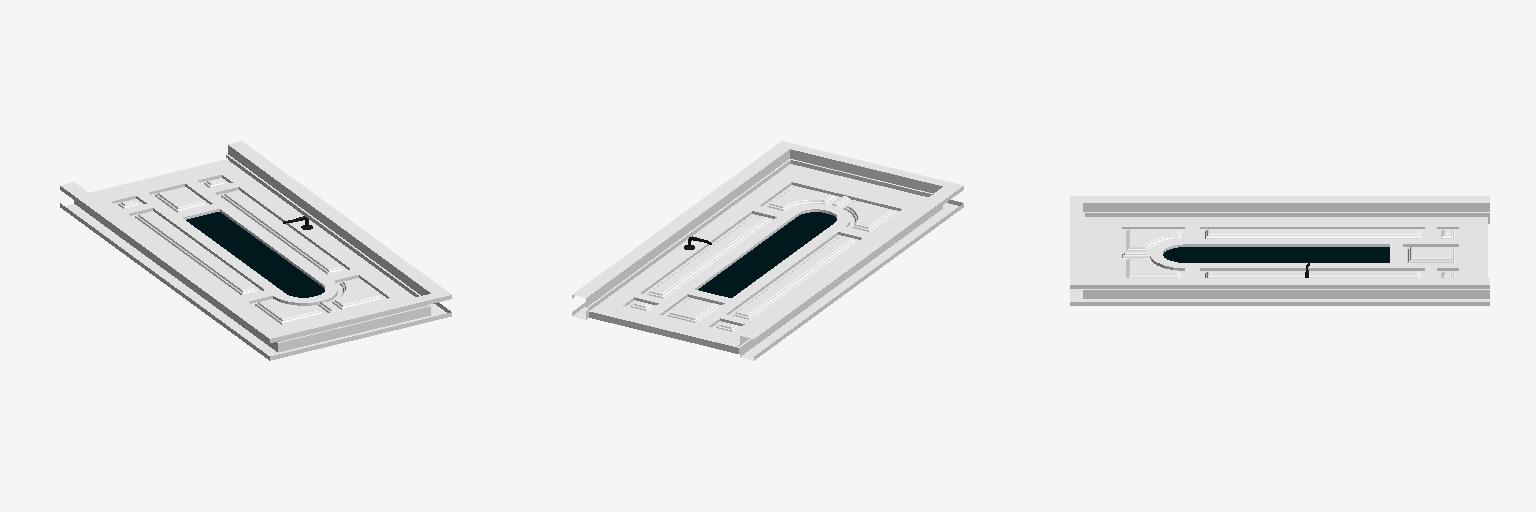
The model's file is Door_Standart.obj.
3 renders of one model, left to right at view 1: azimuth 30°, elevation 25°; view 2: azimuth 150°, elevation 25°; view 3: azimuth 270°, elevation 25°, orthographic.
Parts seen in each view (by area): view 1: Door_pivo5, Door_box_p, Glass_chr7; view 2: Door_pivo5, Door_box_p, Glass_chr7; view 3: Door_box_p, Door_pivo5, Glass_chr7.
Part boxes in pixels (x1,y1,x2,y2): Door_pivo5: (90,159,414,330); Door_box_p: (60,141,451,360); Glass_chr7: (186,212,324,297); Door_pivo5: (589,164,927,353); Door_box_p: (572,141,963,360); Glass_chr7: (684,212,836,297); Door_box_p: (1070,196,1489,305); Door_pivo5: (1085,217,1487,277); Glass_chr7: (1163,247,1389,277).
Size of the model in its own units: 101 by 16.81 by 201.